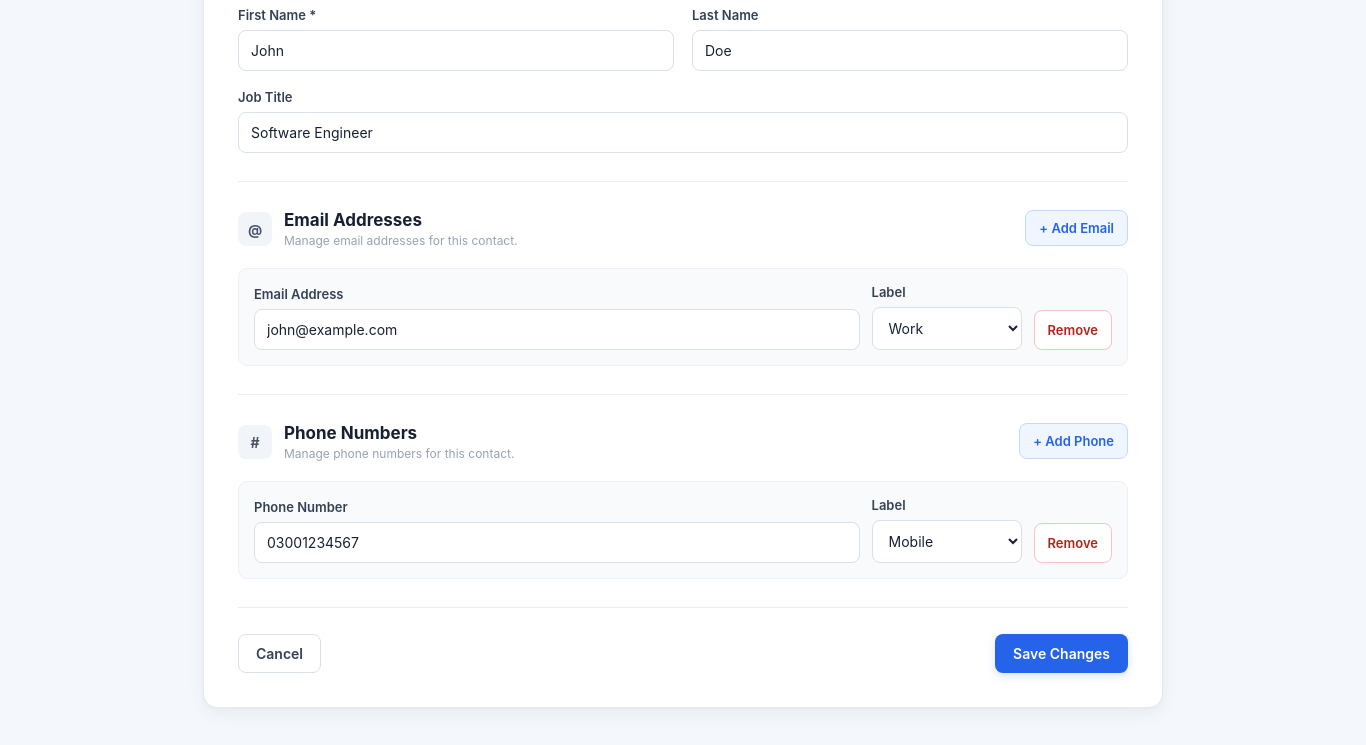
EditContact › adds a new phone
(page scrolled)
expect the field showing "03001234567" is shown: met, box [254,522,860,563]
What coordinates should you click on to do the following:
click the button "+ Add Phone"
I would click on:
 (1074, 441)
Its box is [1019,423,1128,459].
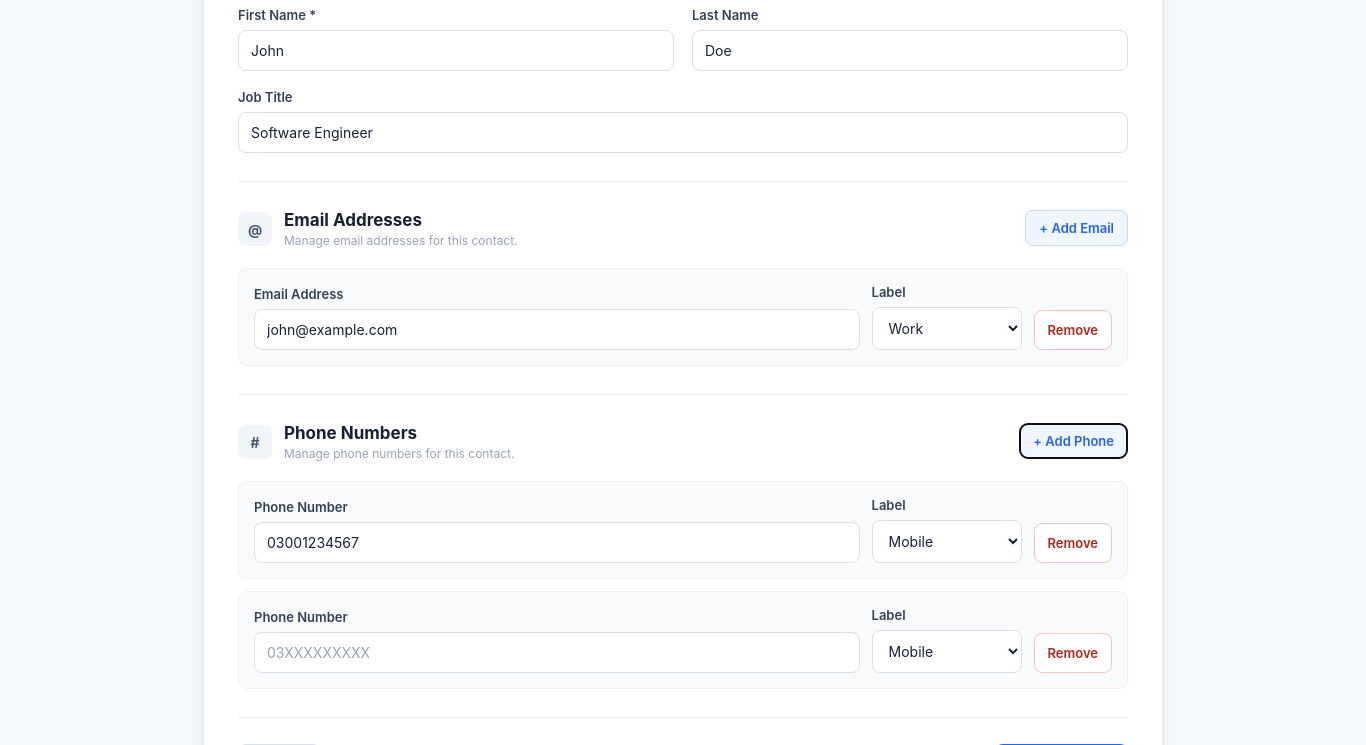
expect the number of fields labelled "Phone Number" is 2: met, box [254,522,860,563]; [254,632,860,673]
expect the 3rd dropdown labelled "Label" shows "Mobile": met, box [872,630,1022,673]
